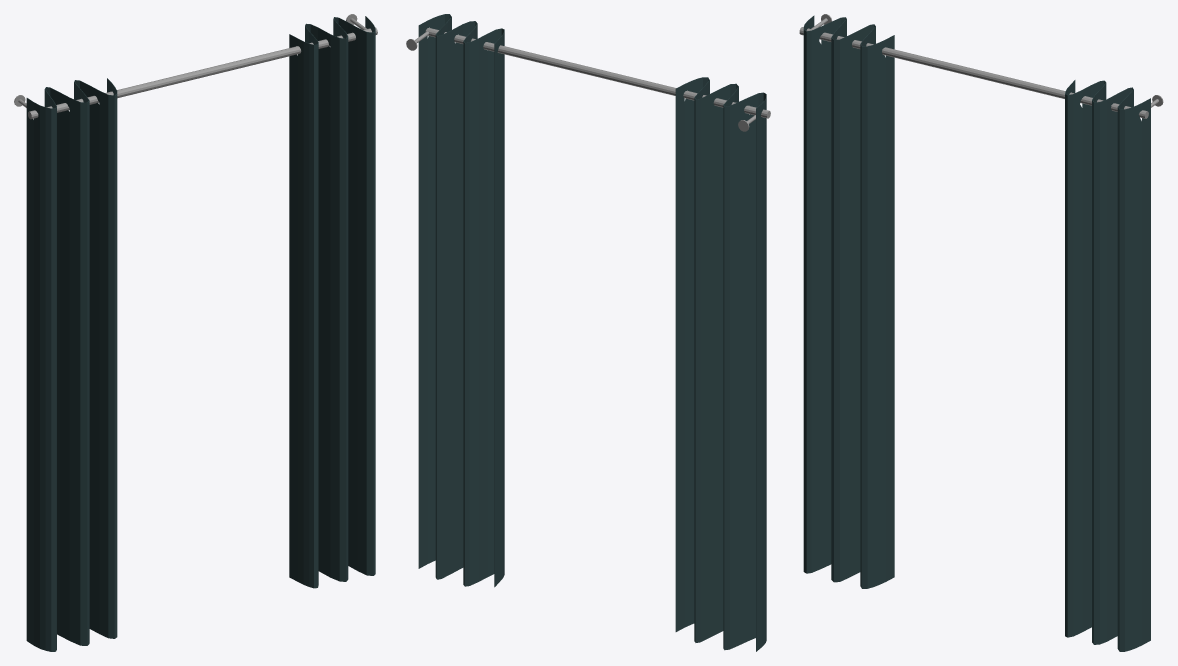
File: eteks-curtains.glb
3 renders of one model, left to right at view 1: azimuth 30°, elevation 25°; view 2: azimuth 150°, elevation 25°; view 3: azimuth 330°, elevation 25°, orthographic.
Visible parts, largest first — view 1: LeftCurtain, RightCurtain, Rod; view 2: LeftCurtain, RightCurtain, Rod; view 3: LeftCurtain, RightCurtain, Rod.
Part boxes in pixels (bbox=[...]): LeftCurtain: bbox=[26, 78, 117, 651]; RightCurtain: bbox=[289, 16, 375, 588]; Rod: bbox=[14, 14, 377, 119]; LeftCurtain: bbox=[675, 77, 766, 651]; RightCurtain: bbox=[418, 14, 504, 587]; Rod: bbox=[406, 28, 770, 131]; LeftCurtain: bbox=[803, 15, 894, 588]; RightCurtain: bbox=[1065, 80, 1150, 651]; Rod: bbox=[799, 14, 1163, 118].
Size of the model in its own units: 150 by 225 by 22.86.
